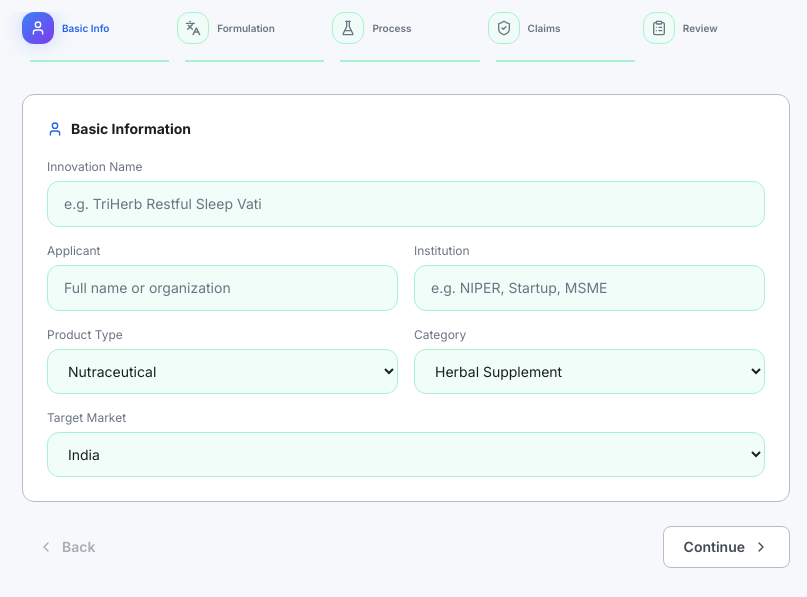
Test: InnovationPassportForm wizard › Back returns to the previous step and step indicator jumps backwards
Click the button "Continue" at (726, 547), box 663,526 -> 790,568
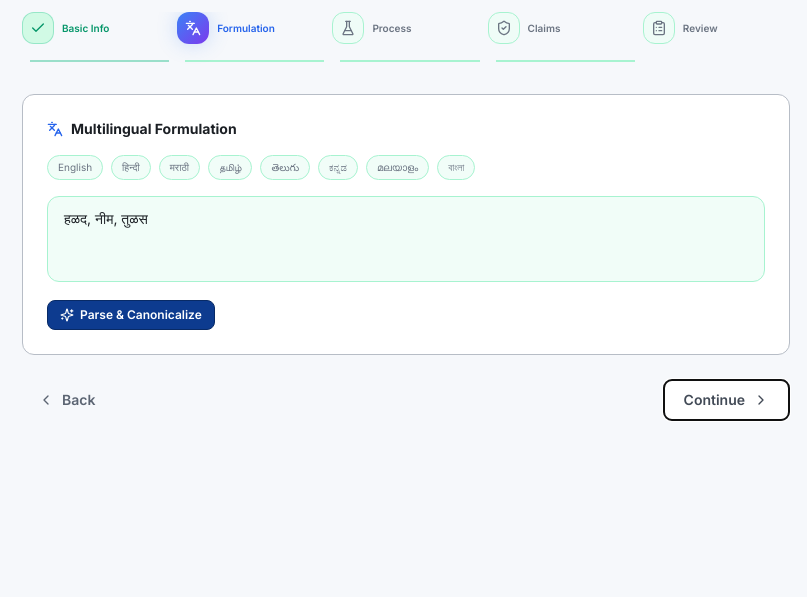
Click the button "Continue" at (726, 400), box 663,379 -> 790,421
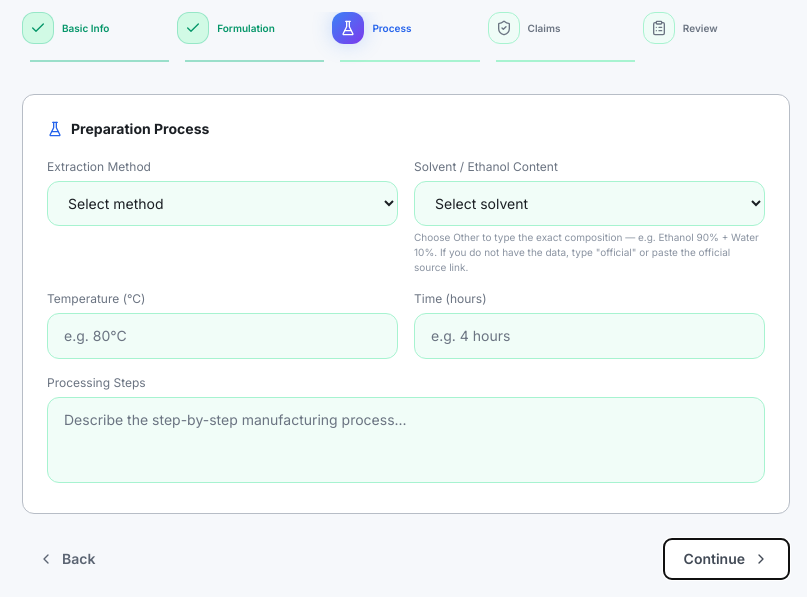
Click the button "Continue" at (726, 559), box 663,538 -> 790,580
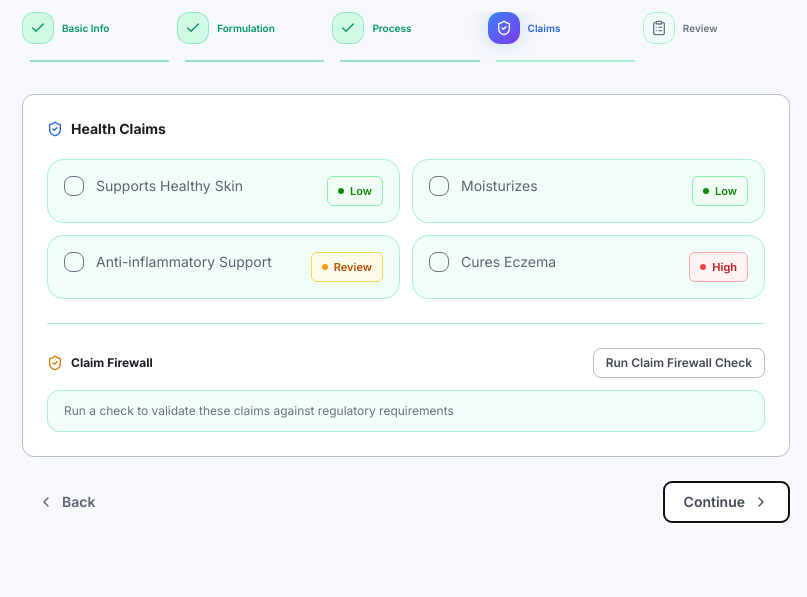
Click the button "Back" at (67, 502), box 22,484 -> 111,520
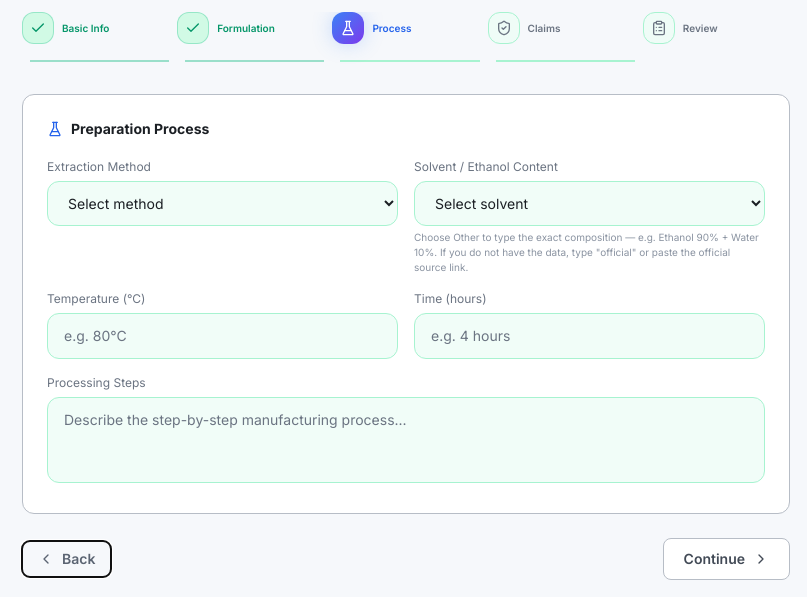
Expected: the heading "Preparation Process" is shown, 47,120 -> 209,137
Click the button "Basic Info" at (96, 37), box 22,12 -> 169,62
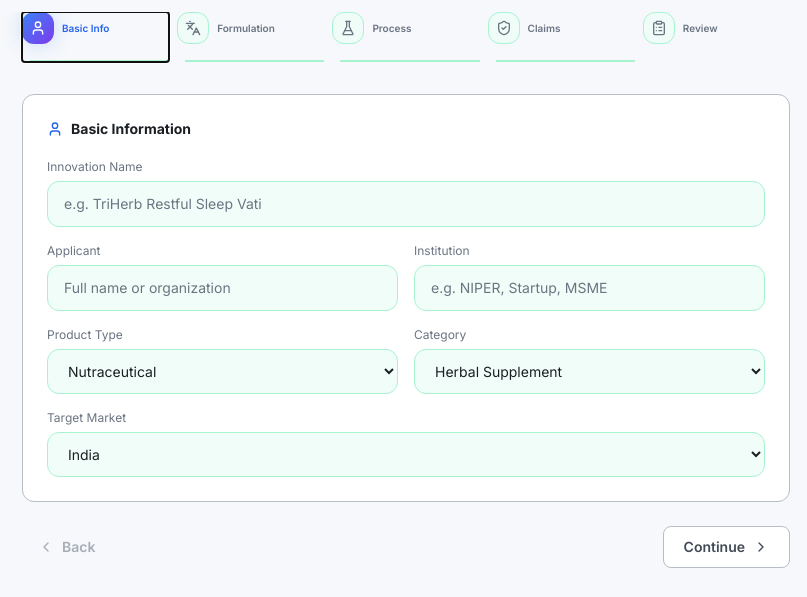
Expected: the heading "Basic Information" is shown, 47,120 -> 191,137
